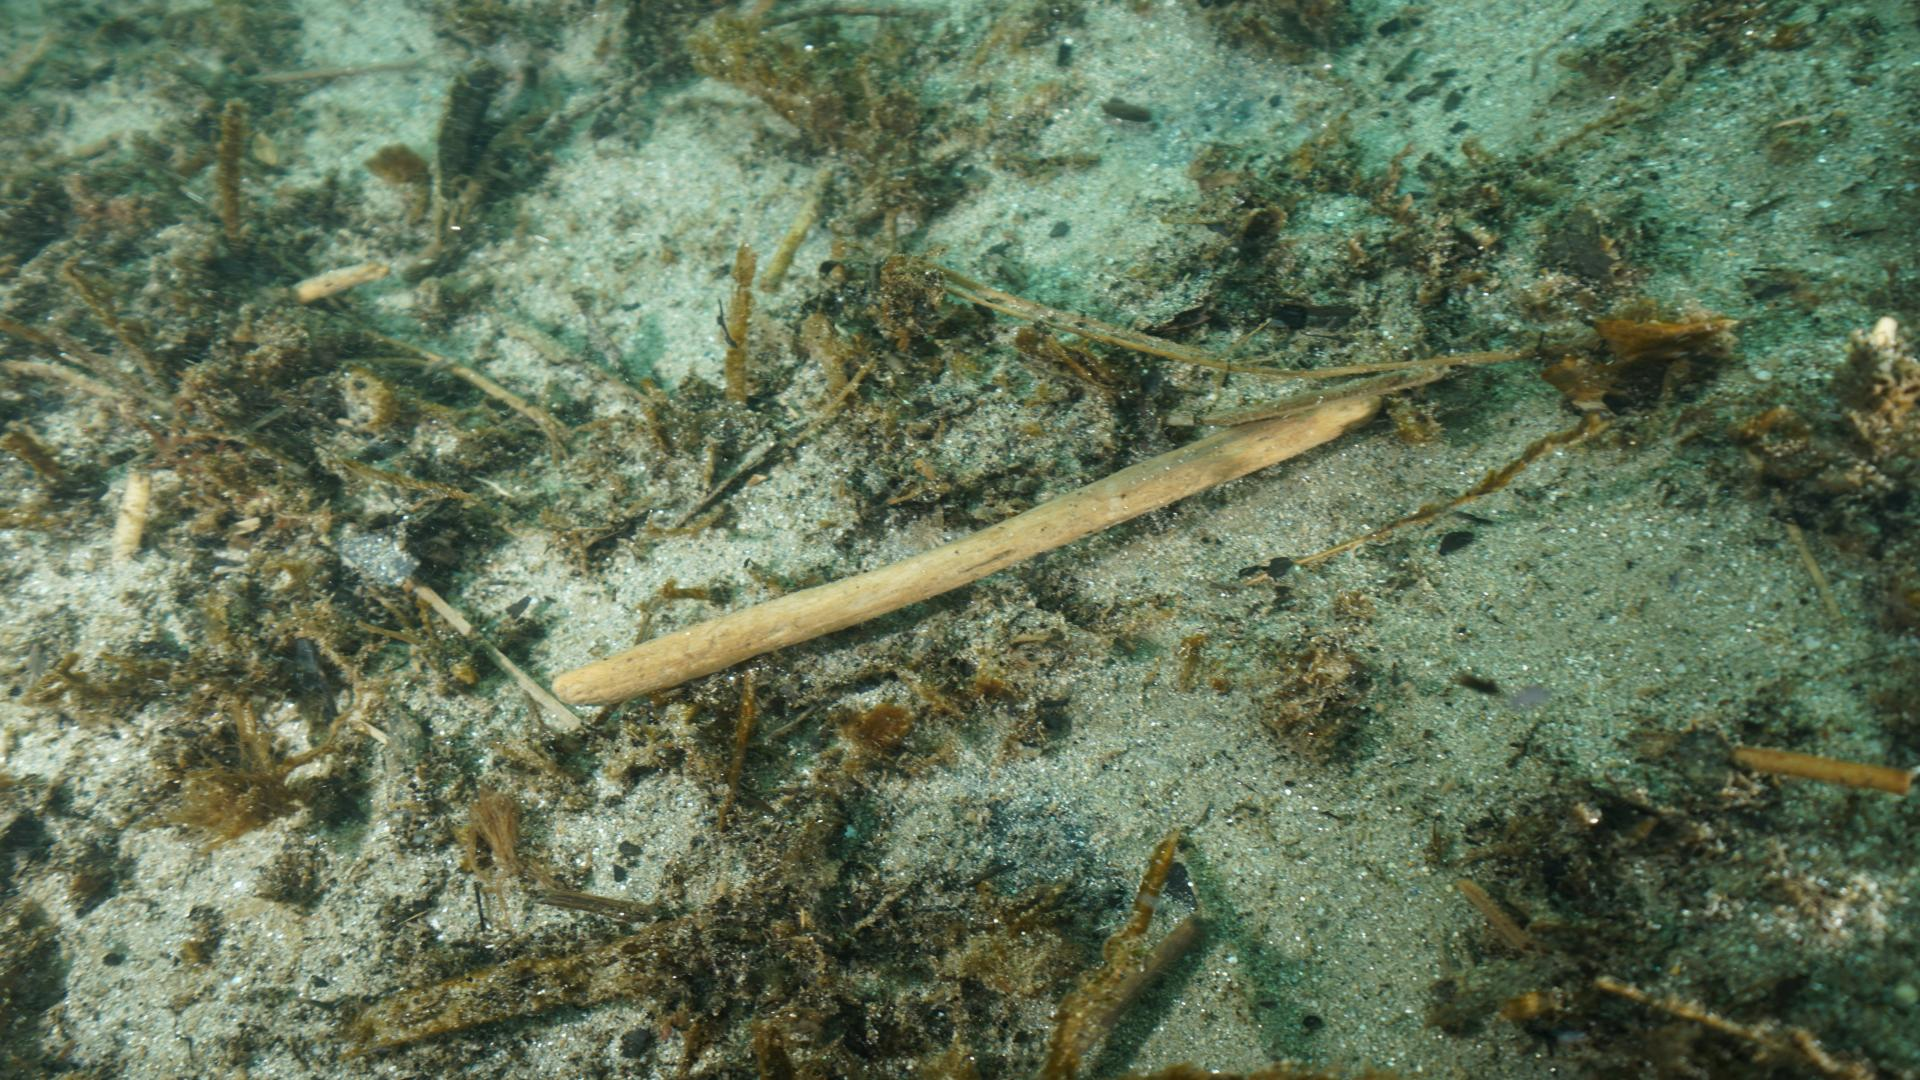wood: (549, 389, 1382, 703)
